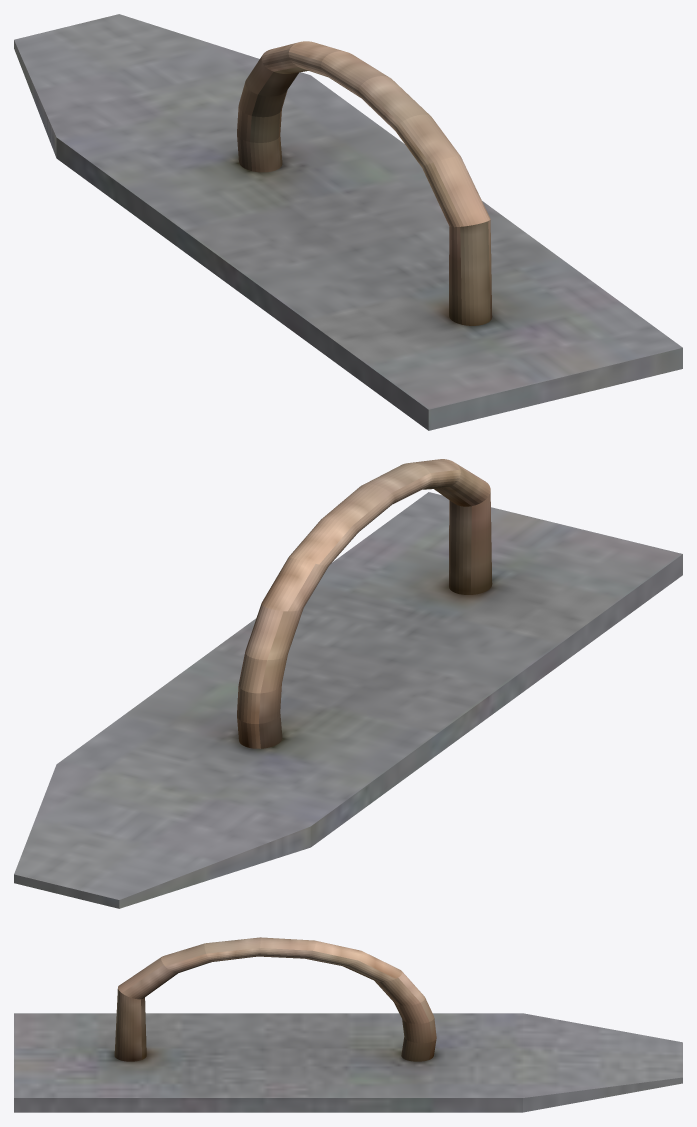
Rendered from mud shovel.fbx.
3 renders of one model, top to bottom at view 1: azimuth 30°, elevation 25°; view 2: azimuth 150°, elevation 25°; view 3: azimuth 270°, elevation 25°, orthographic. The views are drawn at different scales.
Parts seen in each view (by area): view 1: mud shovel; view 2: mud shovel; view 3: mud shovel.
Part boxes in pixels (x1,y1,x2,y2): mud shovel: [14, 14, 682, 430]; mud shovel: [14, 459, 682, 908]; mud shovel: [14, 937, 682, 1112].
Bounding box in the file's own units: 47.82 × 34.32 × 159.
